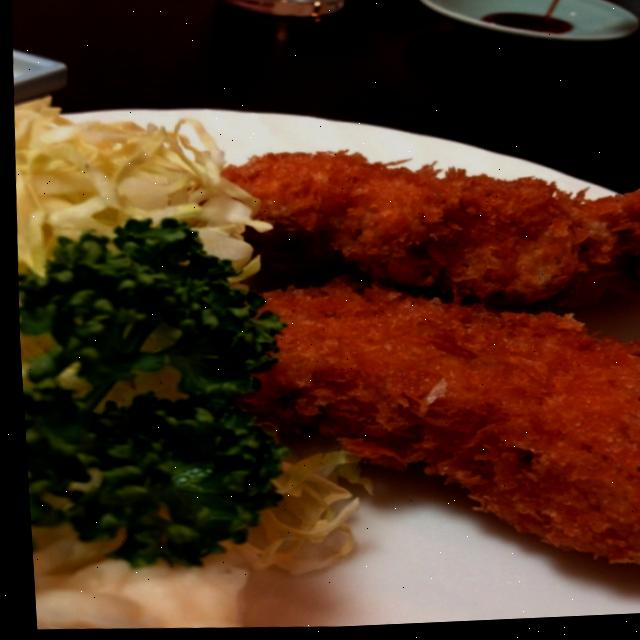刺身生食: (302, 137, 640, 607)
